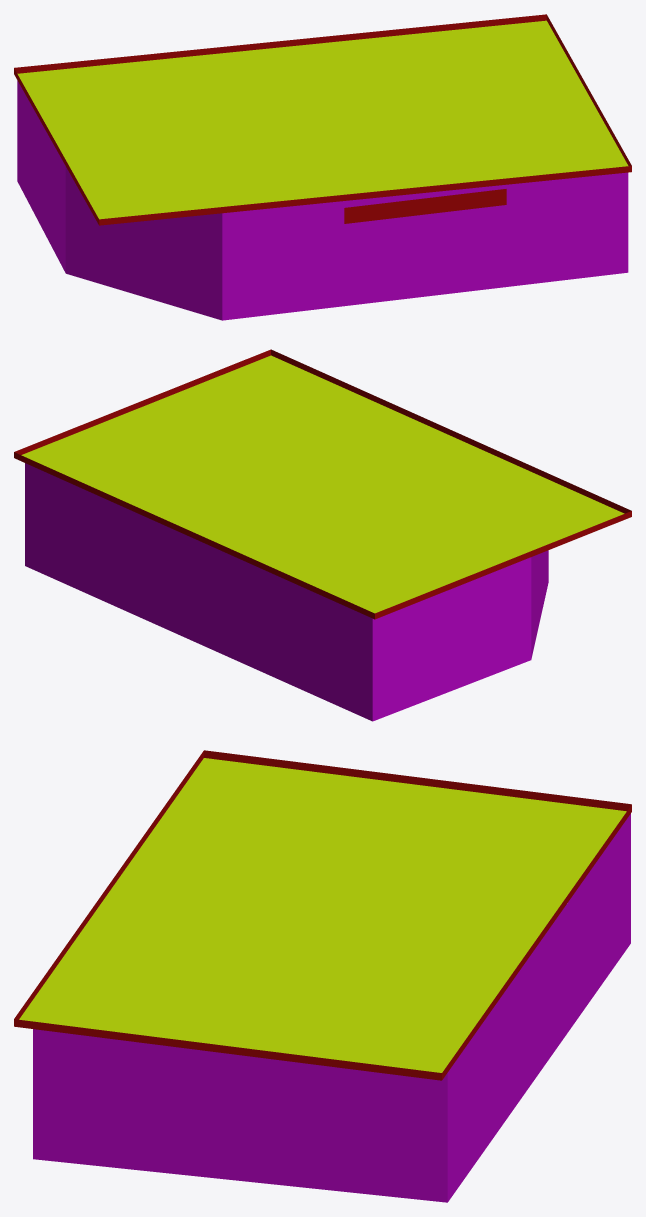
File: bgj_59.glb
The picture shows the model from 3 angles, top to bottom: view 1: azimuth 30°, elevation 25°; view 2: azimuth 150°, elevation 25°; view 3: azimuth 270°, elevation 25°; orthographic projection. The views are drawn at different scales.
Visible parts, largest first — view 1: bgj_59; view 2: bgj_59; view 3: bgj_59.
Part boxes in pixels (bbox=[...]): bgj_59: bbox=[14, 14, 631, 320]; bgj_59: bbox=[14, 349, 631, 721]; bgj_59: bbox=[14, 750, 631, 1202].
Bounding box in the file's own units: 31.87 × 6.34 × 25.78.
